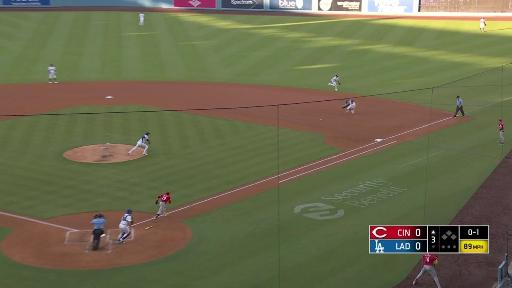pitcher: (126, 131, 151, 158)
